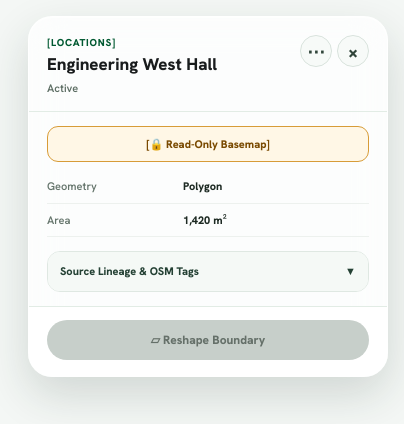
Test: InspectorCardHUD › makes basemap objects visibly read-only and explains disabled edits
Expected: the text "[🔒 Read-Only Basemap]" is shown, [47,126,369,162]
Expected: the button "▱ Reshape Boundary" is disabled, [47,320,369,360]
Click the button named "More actions for Engineering West Hall". click: [316, 51]
box: [300,35,332,67]
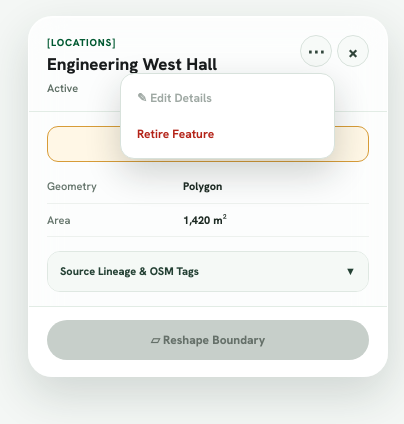
Expected: the menu item "✎ Edit Details" is disabled, [127,80,328,116]
